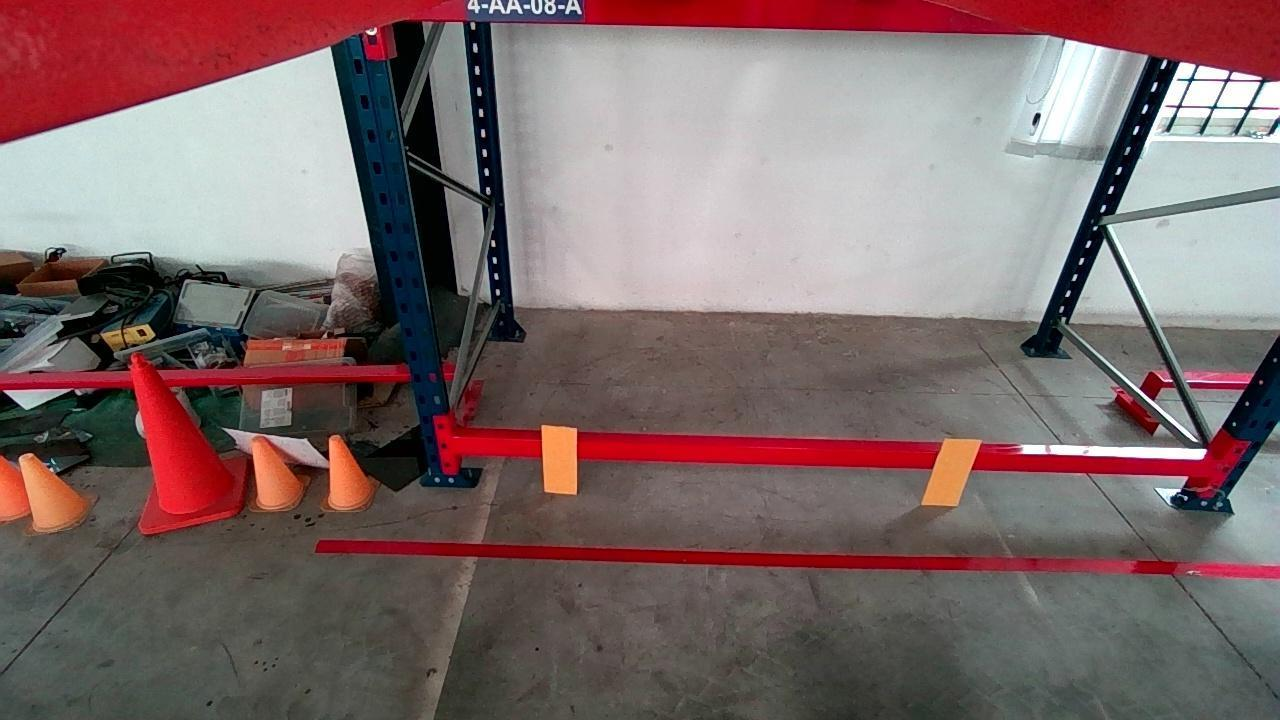h_rack: (456, 435, 1205, 474), (416, 0, 1048, 34)
orange_strip: (925, 438, 978, 504), (543, 425, 577, 495)
red_line: (318, 536, 1280, 575)
